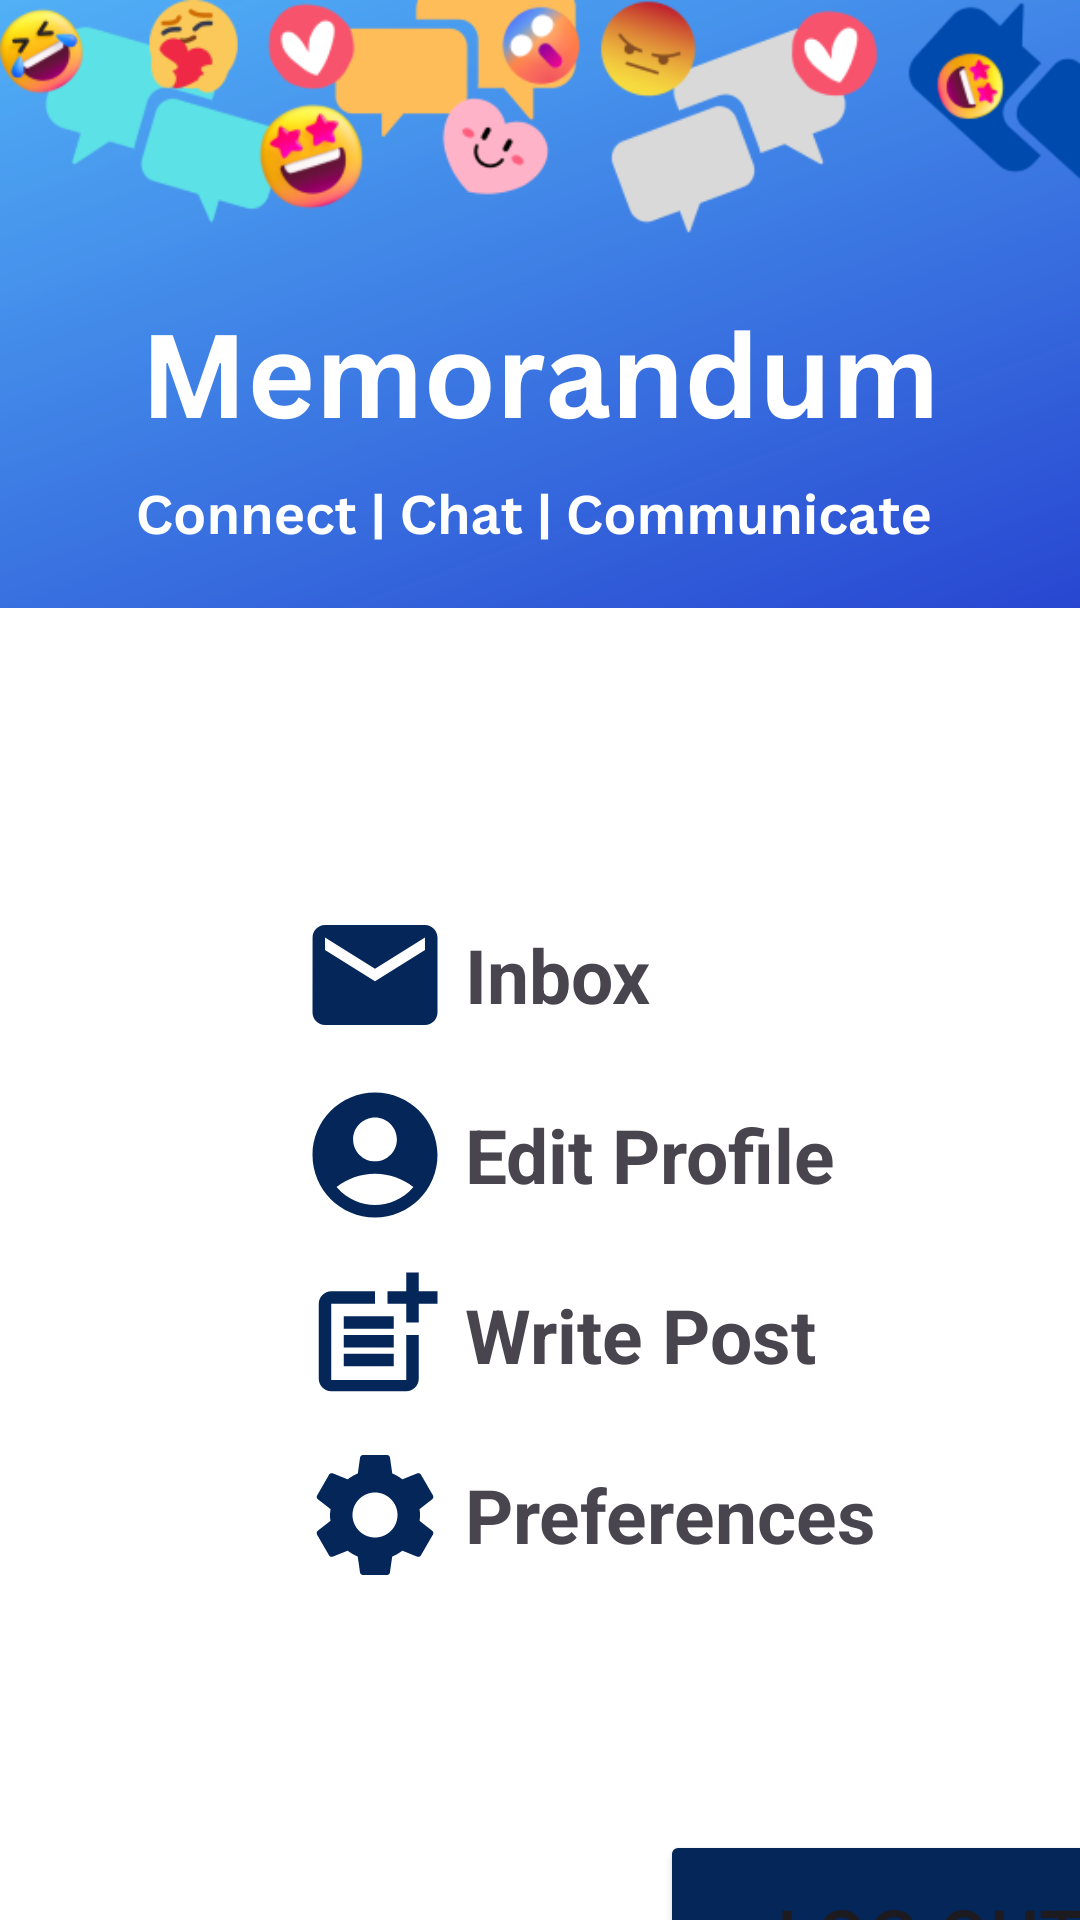

Named icons in this screenshot (1080px x 1920px) and their bounding boxes, (x1,y1,x2,y2):
account circle: (312,1092,438,1218)
mail: (312,925,438,1025)
post add: (318,1272,438,1392)
settings: (316,1455,434,1575)
